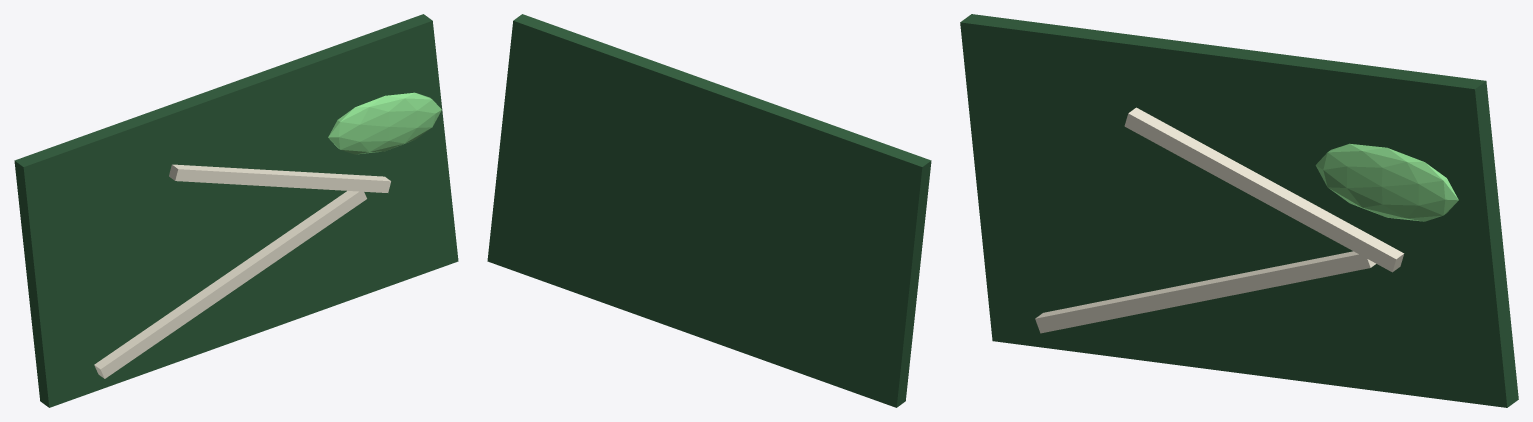
File: 01_weathering_wear_overlay_1.glb
The picture shows the model from 3 angles, left to right: view 1: azimuth 30°, elevation 25°; view 2: azimuth 150°, elevation 25°; view 3: azimuth 330°, elevation 25°; orthographic projection. The views are drawn at different scales.
Visible parts, largest first — view 1: wear_plate, scratch_a, rust_or_moss_spot, scratch_b; view 2: wear_plate; view 3: wear_plate, rust_or_moss_spot, scratch_b, scratch_a.
Part boxes in pixels (bbox=[...]): wear_plate: bbox=[14, 14, 458, 407]; scratch_a: bbox=[94, 191, 366, 378]; rust_or_moss_spot: bbox=[328, 92, 441, 154]; scratch_b: bbox=[169, 164, 390, 192]; wear_plate: bbox=[487, 14, 931, 407]; wear_plate: bbox=[960, 14, 1518, 407]; rust_or_moss_spot: bbox=[1315, 143, 1458, 221]; scratch_b: bbox=[1124, 107, 1404, 272]; scratch_a: bbox=[1035, 251, 1375, 333].
Size of the model in its own units: 1.37 by 0.8865 by 0.134.
